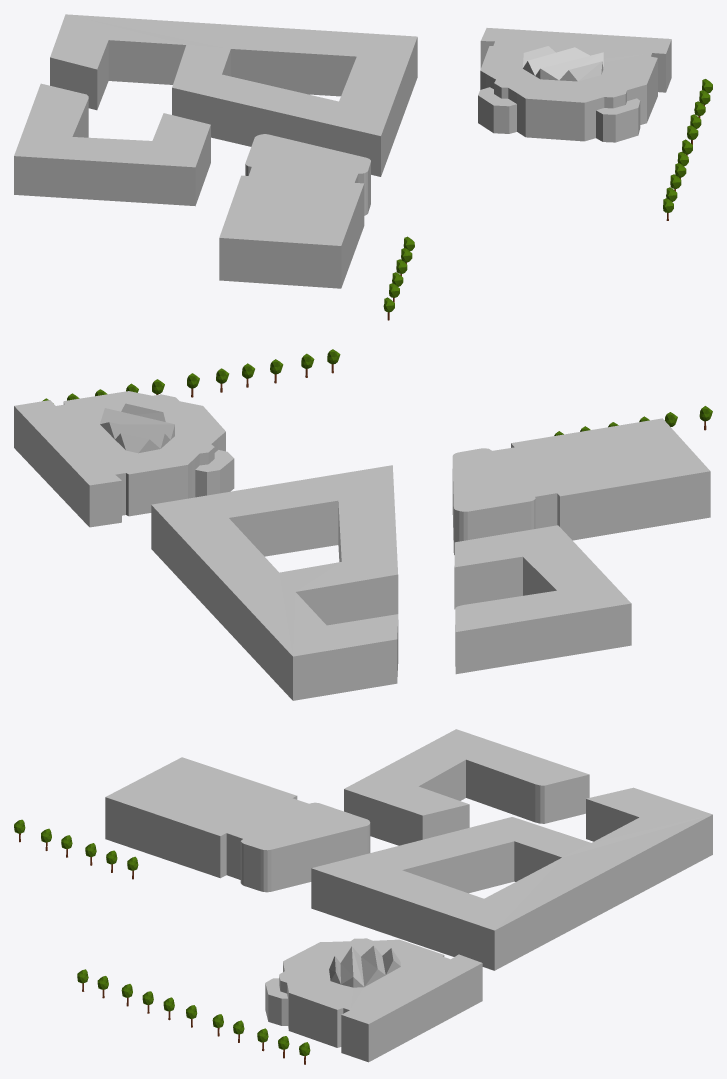
File: Campus.obj
3 renders of one model, top to bottom at view 1: azimuth 30°, elevation 25°; view 2: azimuth 150°, elevation 25°; view 3: azimuth 270°, elevation 25°, orthographic. The views are drawn at different scales.
Parts seen in each view (by area): view 1: Infozentrum, Bauernbib, HSZ, Numerikinstitut; view 2: Infozentrum, HSZ, Bauernbib, Numerikinstitut; view 3: Infozentrum, HSZ, Bauernbib, Numerikinstitut.
Part boxes in pixels (x1=…): Infozentrum: x1=50, y1=14, x2=417, y2=176; Bauernbib: x1=478, y1=28, x2=671, y2=142; HSZ: x1=219, y1=134, x2=370, y2=288; Numerikinstitut: x1=14, y1=83, x2=210, y2=206; Infozentrum: x1=151, y1=465, x2=398, y2=700; HSZ: x1=452, y1=418, x2=710, y2=554; Bauernbib: x1=14, y1=391, x2=234, y2=527; Numerikinstitut: x1=454, y1=525, x2=631, y2=674; Infozentrum: x1=311, y1=787, x2=712, y2=970; HSZ: x1=105, y1=757, x2=370, y2=892; Bauernbib: x1=265, y1=938, x2=482, y2=1062; Numerikinstitut: x1=344, y1=729, x2=589, y2=845.
Size of the model in its own units: 19.58 by 1.52 by 19.36.
